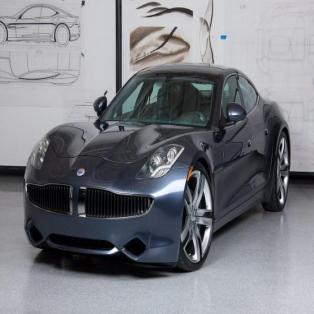Auto: (23, 63, 292, 274)
